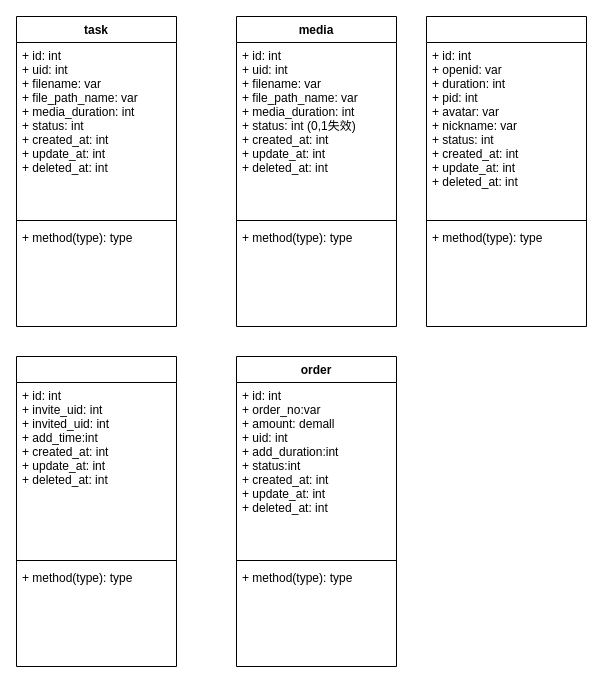
Image size: 603x683. Some labels were removed from this diagram. Here are the shapes that lost their labels. From the top down, the box of each, then its label:
(426, 16, 586, 326): user
(16, 356, 176, 666): invite_log
